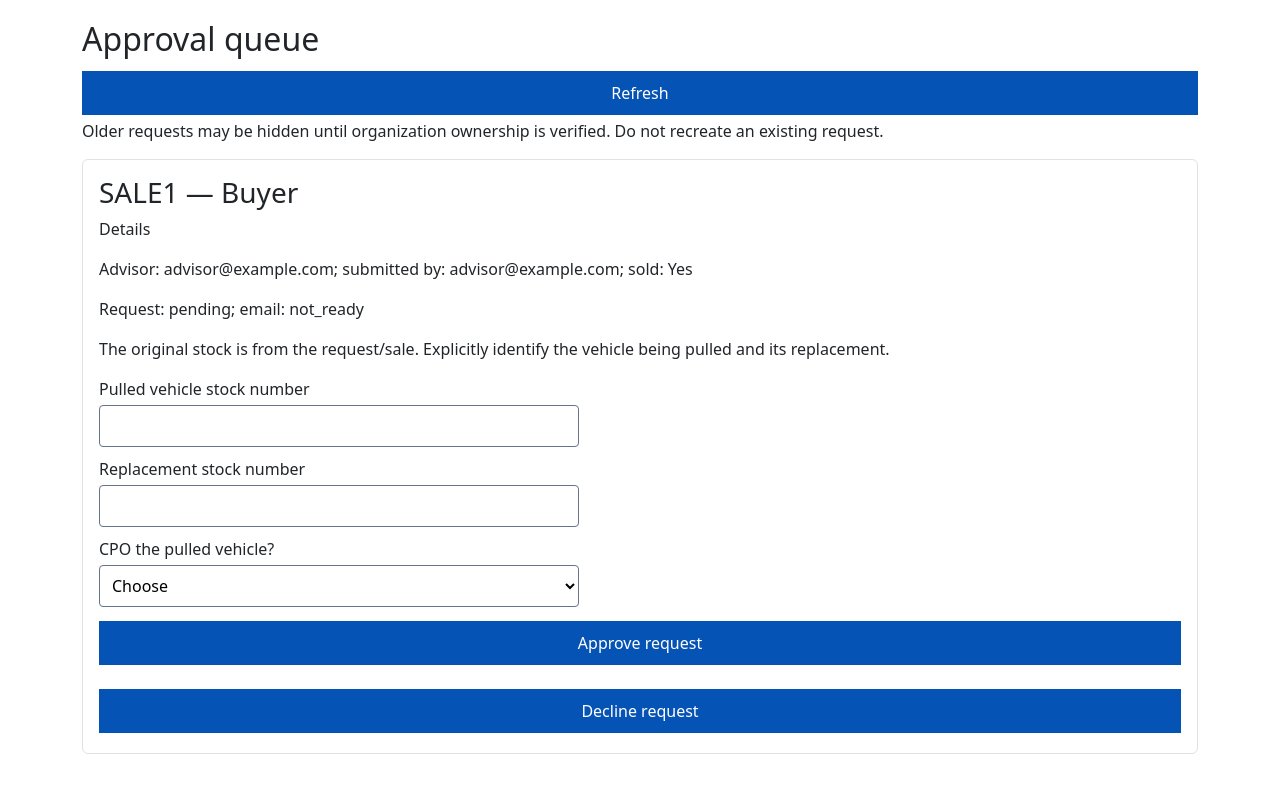
Test: approval validation error preserves inputs and blocks decisions until refreshed
(page scrolled)
Check: the button "Approve request" is shown, box x1=99 y1=621 x2=1181 y2=665
Type "PULL123" into the field labelled "Pulled vehicle stock number".
click(339, 426); type("PULL123")  # box x1=99 y1=405 x2=579 y2=447
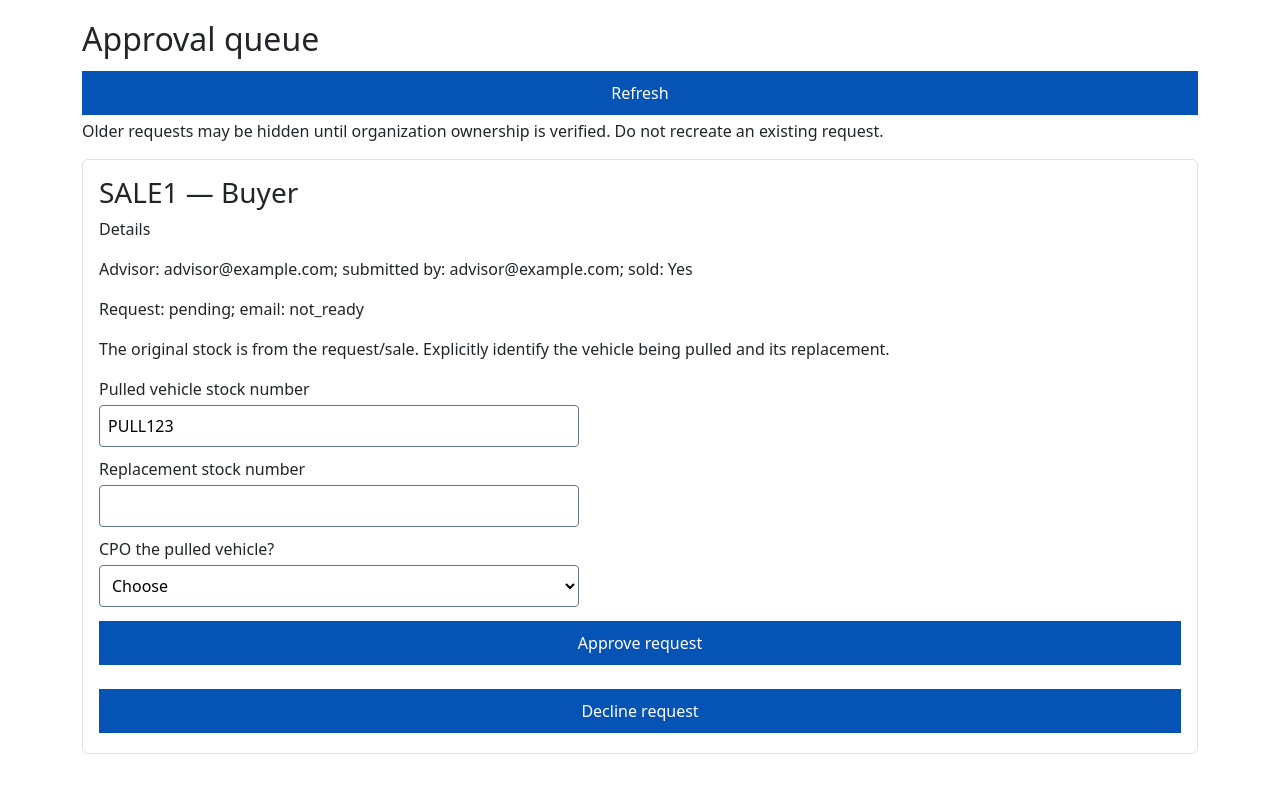
Submit the form named "Approve loaner request", box x1=99 y1=337 x2=1181 y2=669
(page scrolled)
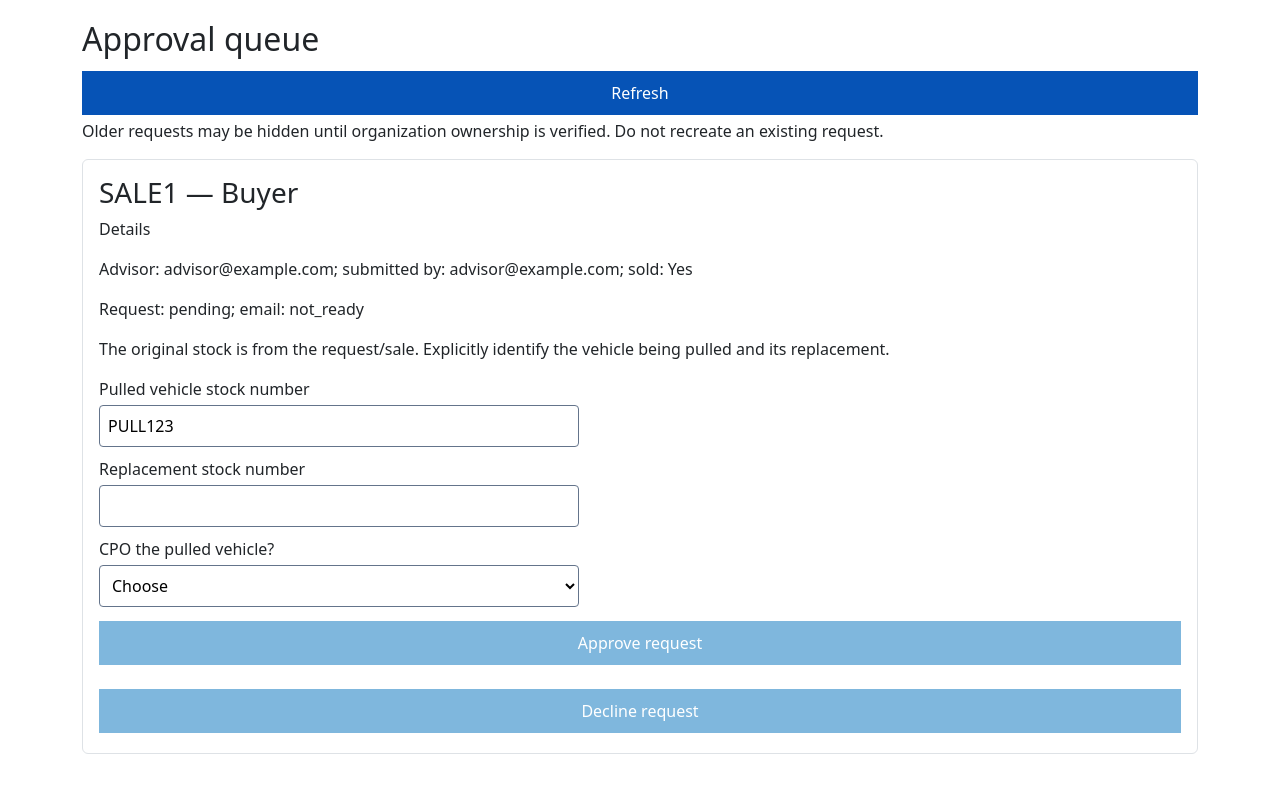
Check: the button "Decline request" is disabled, box x1=99 y1=689 x2=1181 y2=733
